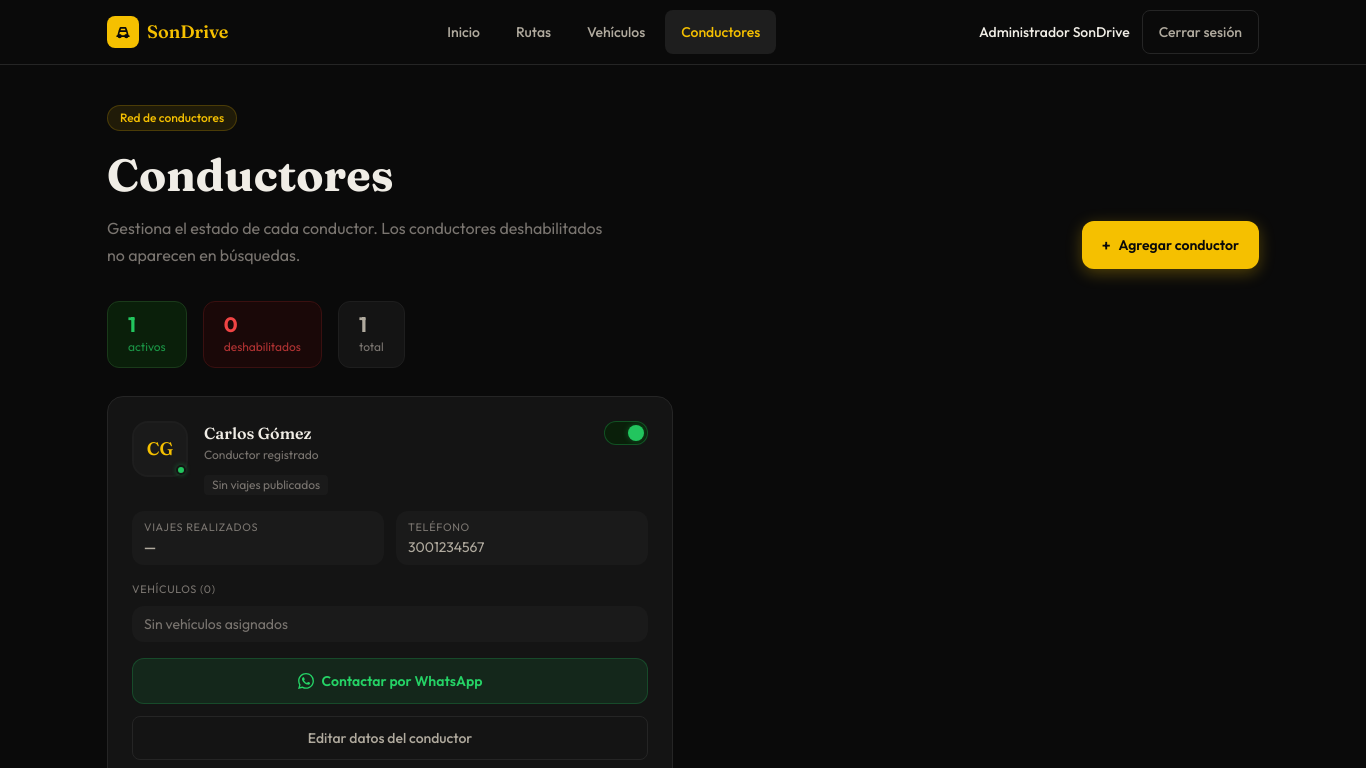
Test: PaginaConductores › cambia el estado del conductor desde el control visual del prototipo
This screenshot has width=1366, height=768.
What coordinates should you click on to do the following:
click the switch named "Deshabilitar a Carlos Gómez"
I would click on:
 (626, 433)
Its box is [604, 421, 648, 445].
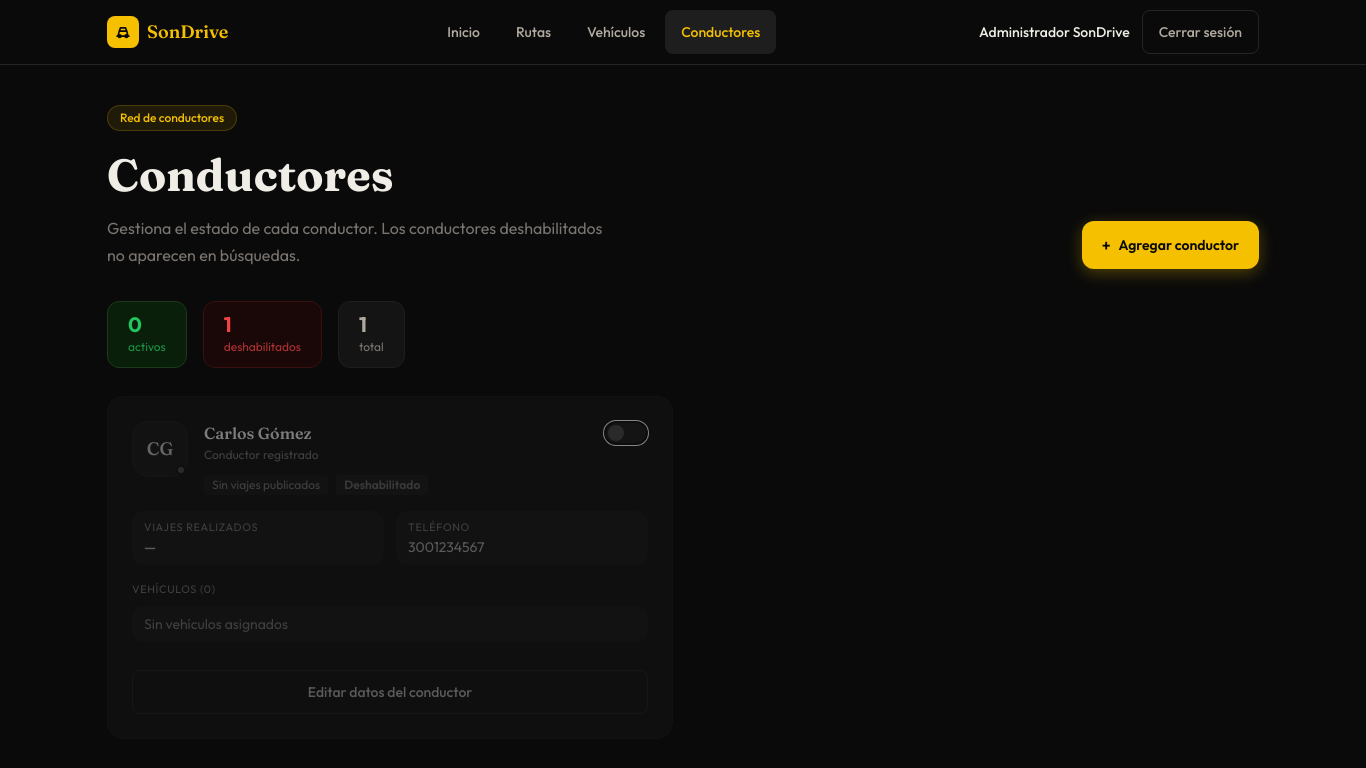
Result: the text "Deshabilitado" is shown at [336, 475, 428, 495]
